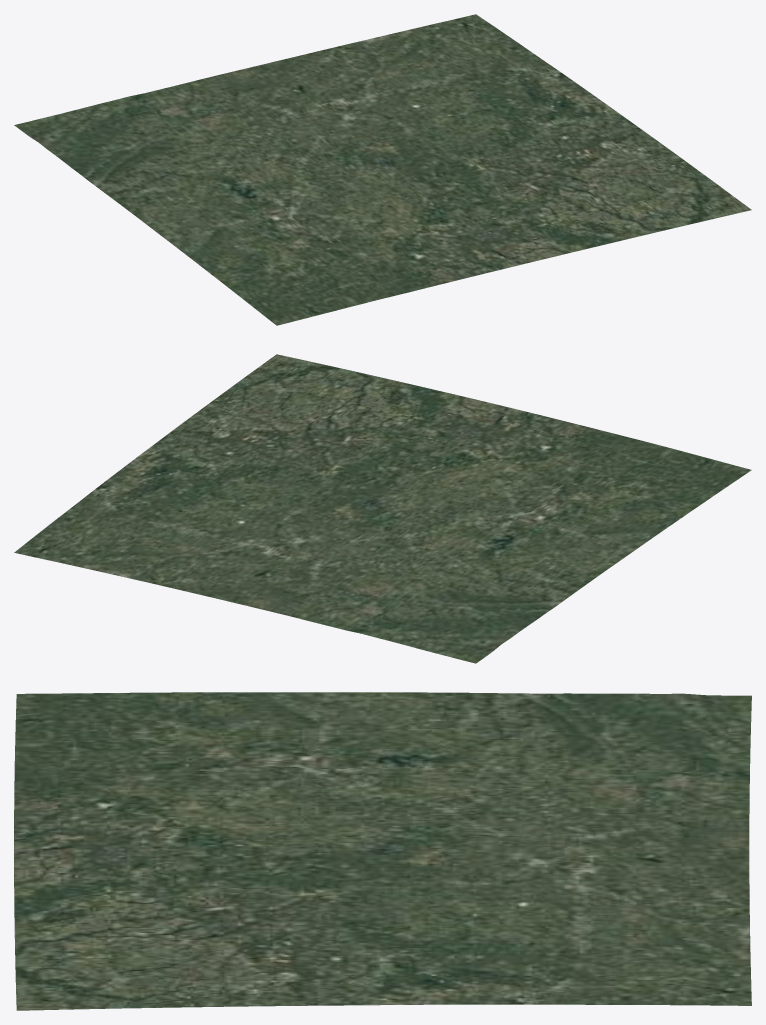
3 renders of one model, top to bottom at view 1: azimuth 30°, elevation 25°; view 2: azimuth 150°, elevation 25°; view 3: azimuth 270°, elevation 25°, orthographic. The views are drawn at different scales.
Bounding box in the file's own units: 258870 × 2754 × 255056.
Materials: 1 (1 with a texture image).
